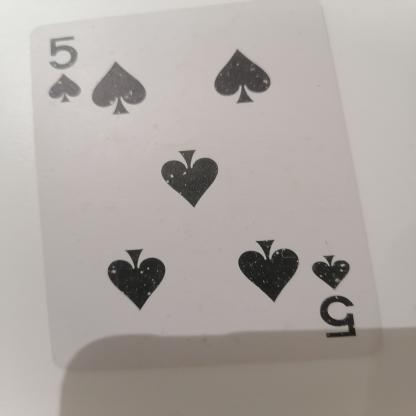5S: (311, 248, 372, 348), (30, 27, 93, 114)
